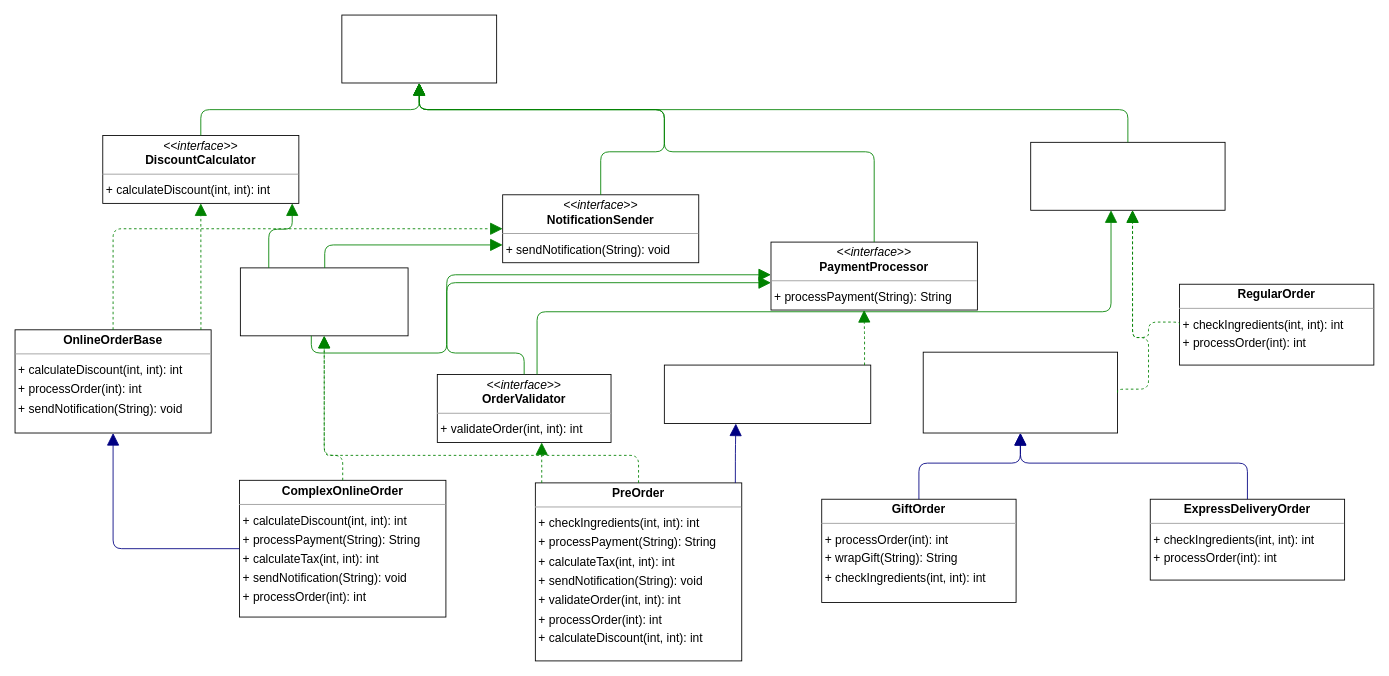
The diagram is 1389 pixels wide and 676 high, and some of its shapes have lost their labels. The box of each missing label's shape, as (x1, y1, x2, y2) in pixels:
<<interface>> InventoryChecker + checkIngredients(int, int): int: (1030, 141, 1225, 210)
<<interface>> OrderProcessor + processOrder(int): int: (341, 14, 497, 83)
<<interface>> TaxCalculator + calculateTax(int, int): int: (240, 267, 408, 336)
OrderBase + processOrder(int): int + checkIngredients(int, int): int: (922, 351, 1118, 433)
SubscriptionOrderBase + processPayment(String): String: (663, 364, 871, 424)
